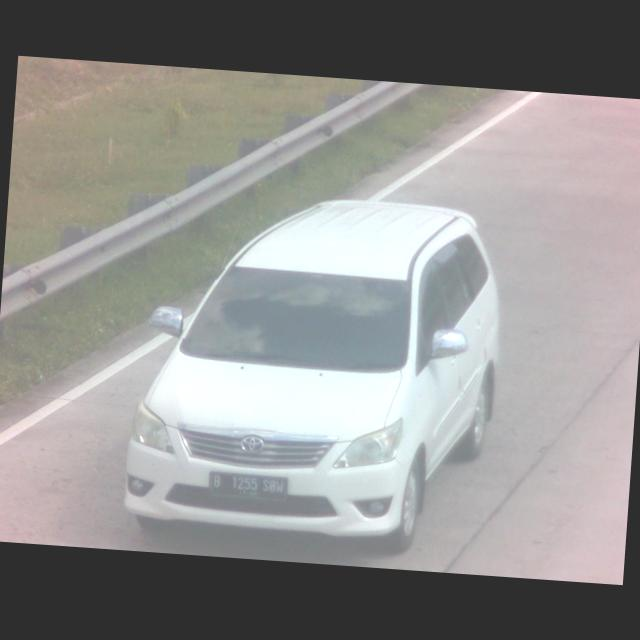plate: (207, 470, 288, 500)
